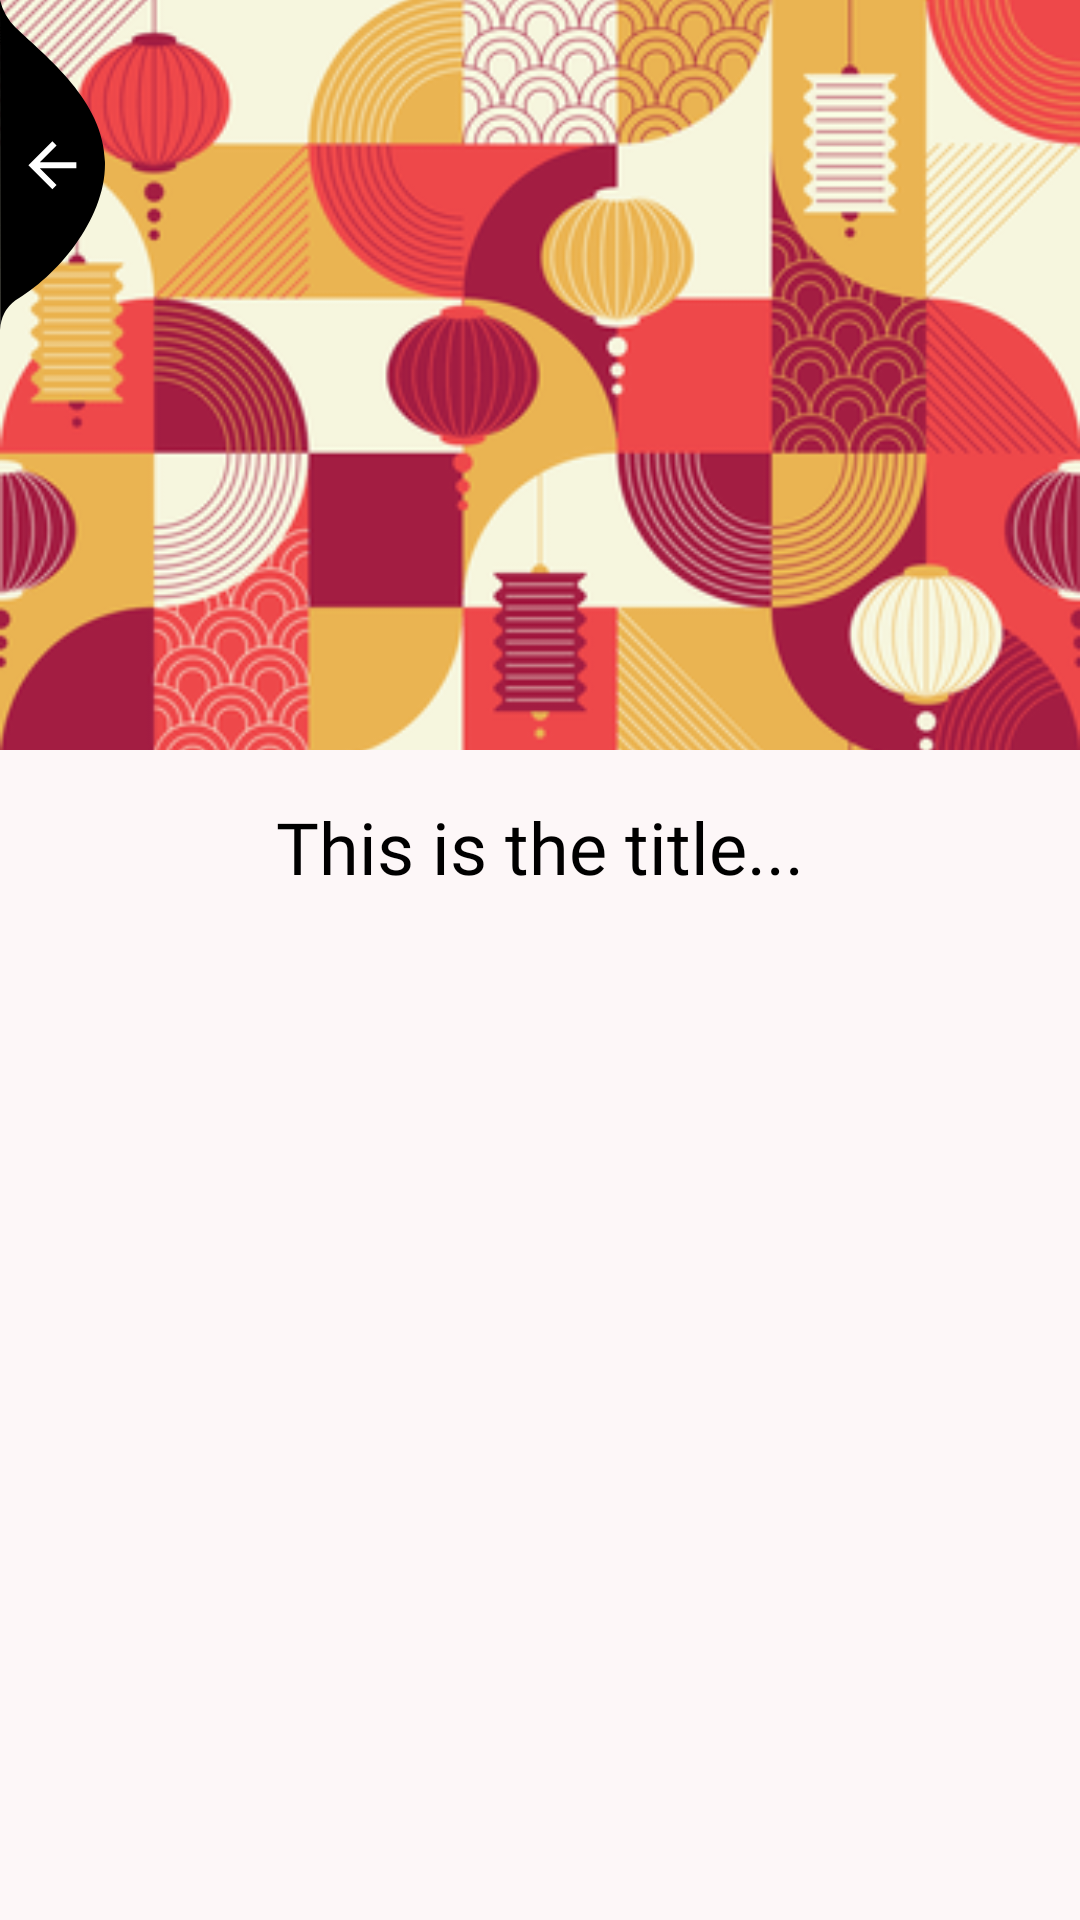

Screen size 1080x1920. Icon name, then its center in pixels as (x,y):
back: (52,165)
